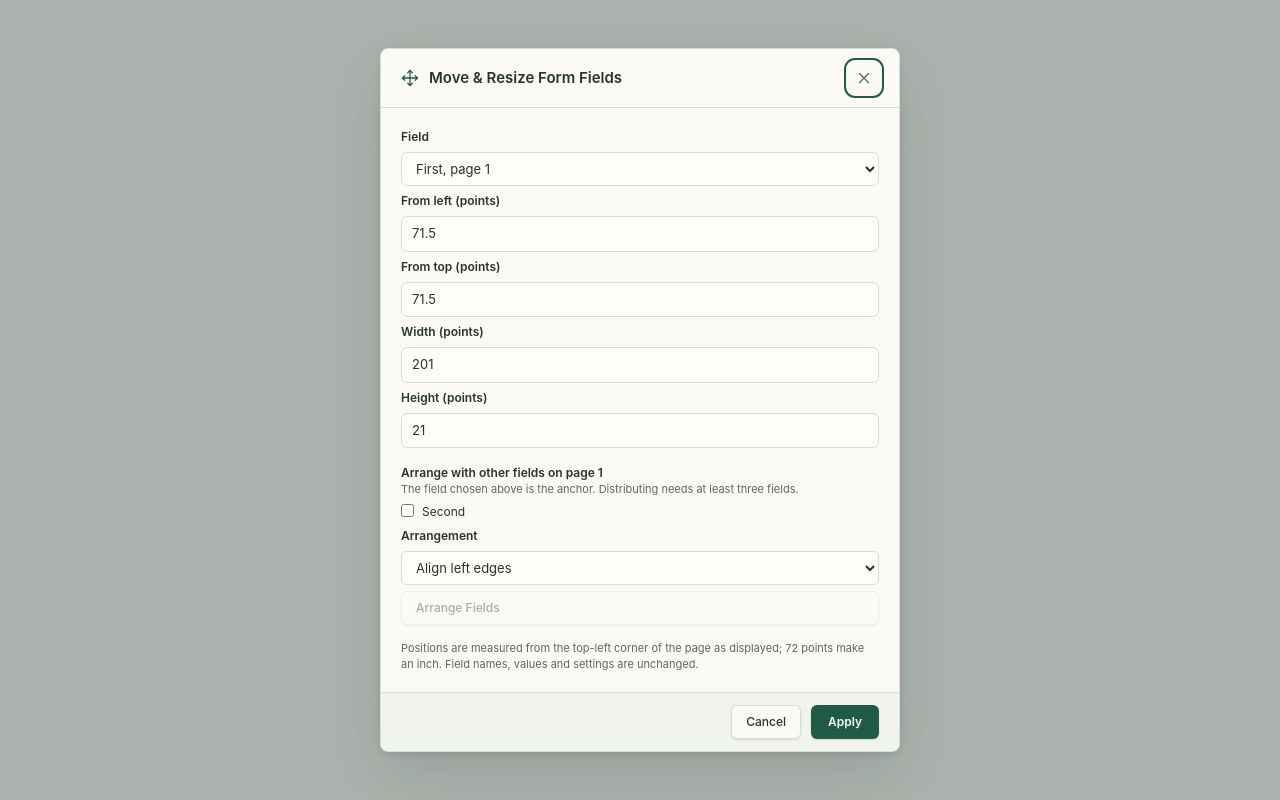
Scenario: FieldLayoutDialog › moves the chosen field and stays open for more changes
This screenshot has width=1280, height=800.
Select "Second, page 1" in the dropdown labelled "Field". click: (640, 169)
box: [401,152,879,186]
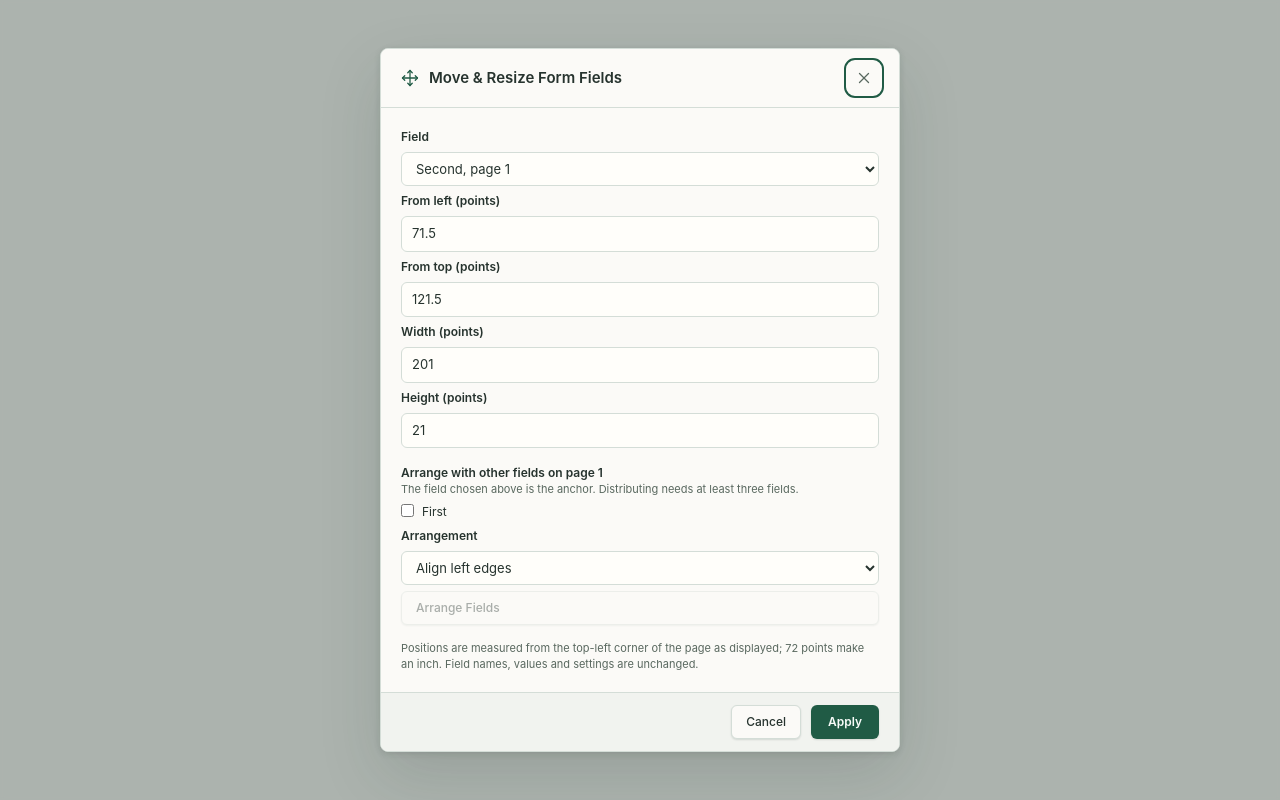
Replace the text in the number field labelled "From left (points)" with "300". click: (640, 234)
box: [401,216,879,252]
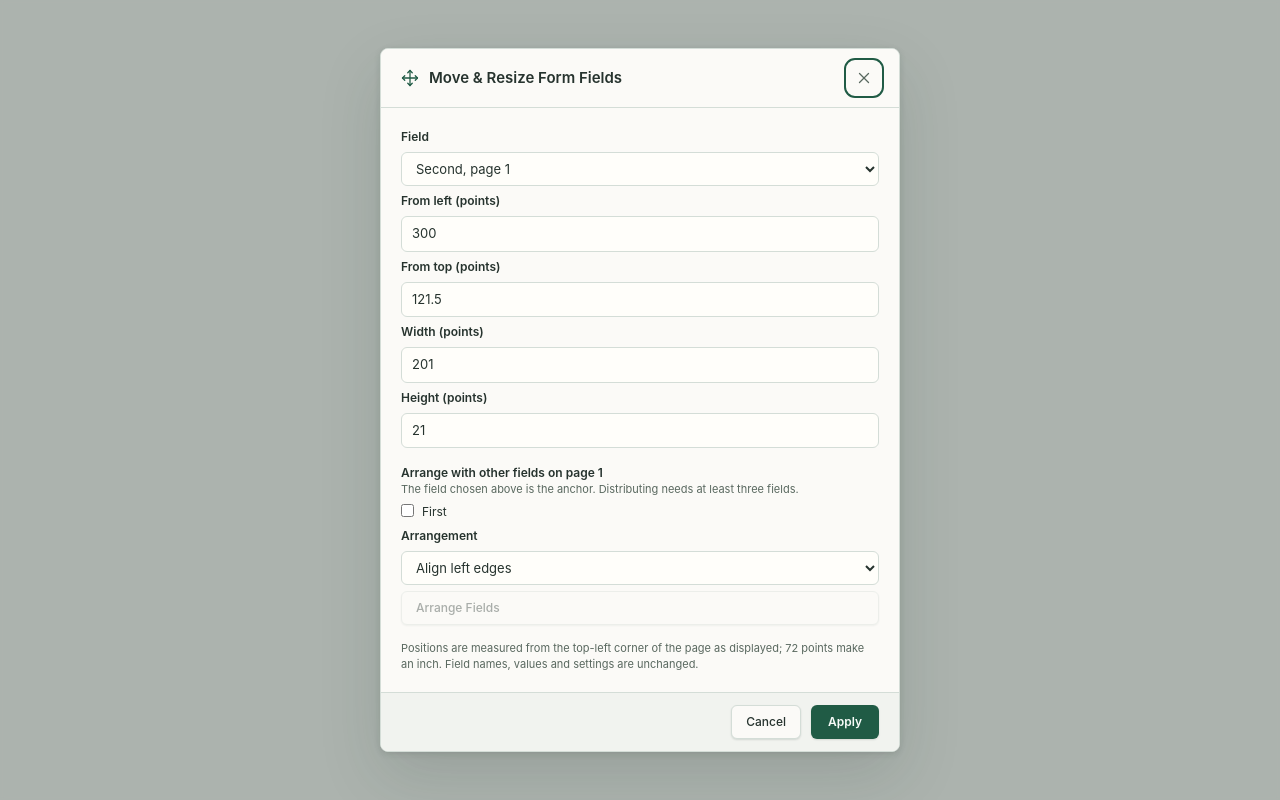
Replace the text in the number field labelled "From top (points)" with "40". click: (640, 299)
box: [401,282,879,317]
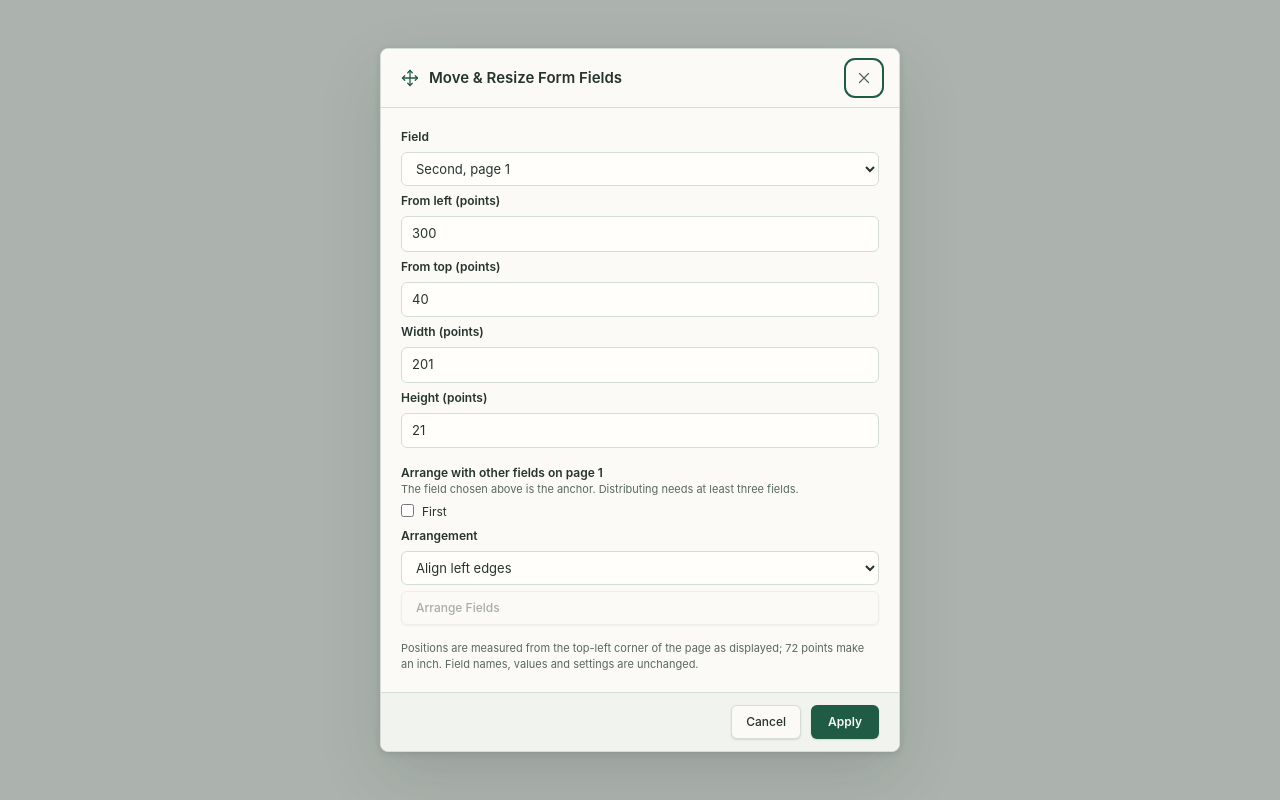
Click the button "Apply". click: (845, 722)
box: [811,705,879,739]
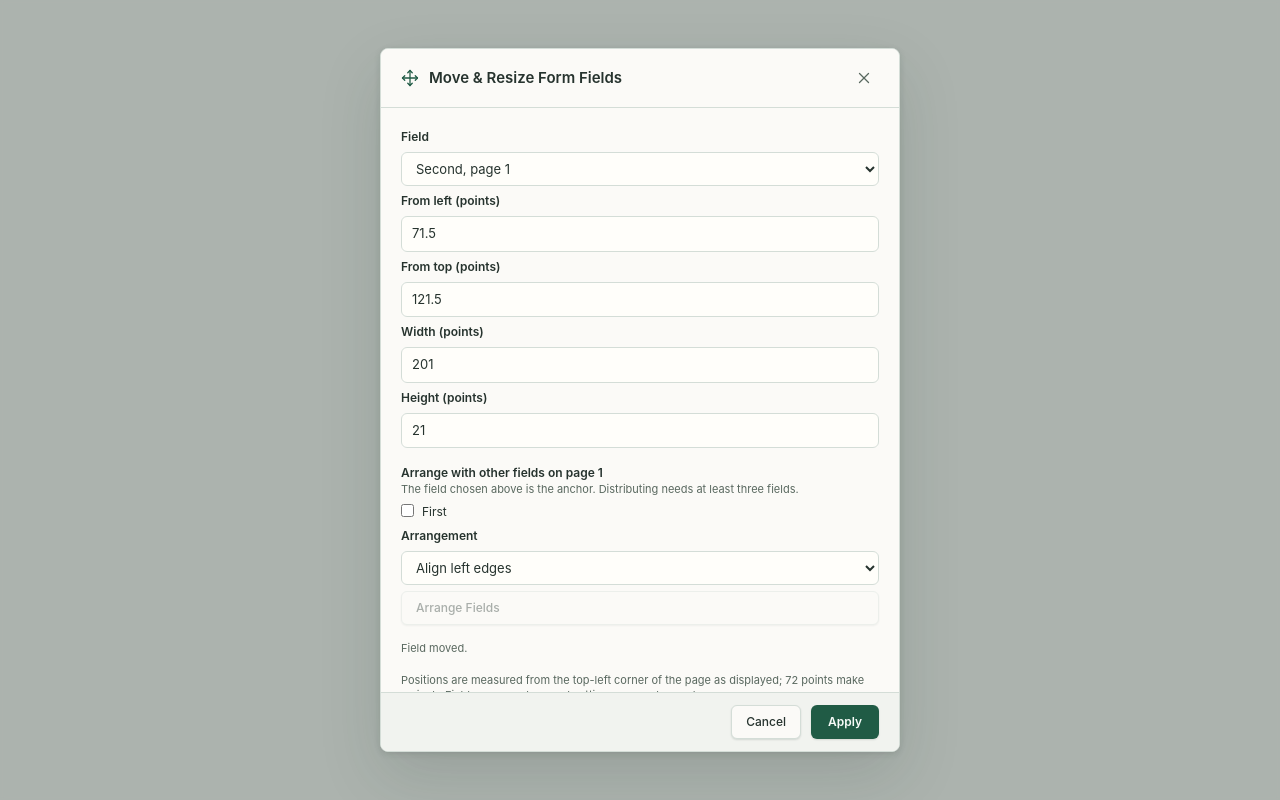
Check: the text "Field moved." is shown, box [401,641,467,655]
